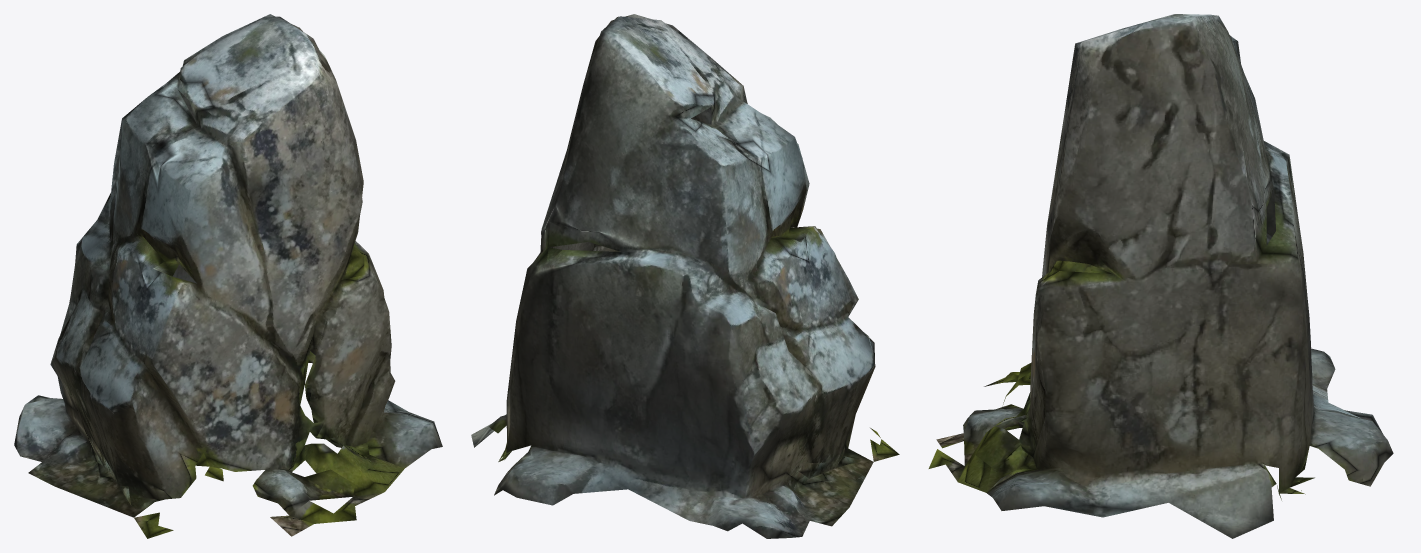
File: rock-2.glb
3 renders of one model, left to right at view 1: azimuth 30°, elevation 25°; view 2: azimuth 150°, elevation 25°; view 3: azimuth 270°, elevation 25°, orthographic. The views are drawn at different scales.
Parts seen in each view (by area): view 1: geometry_0; view 2: geometry_0; view 3: geometry_0.
Part boxes in pixels (x1,y1,x2,y2): geometry_0: (14, 14, 442, 538); geometry_0: (471, 14, 899, 538); geometry_0: (928, 14, 1393, 538).
Size of the model in its own units: 0.8314 by 0.9632 by 0.8819.
1 material, 1 textured.
